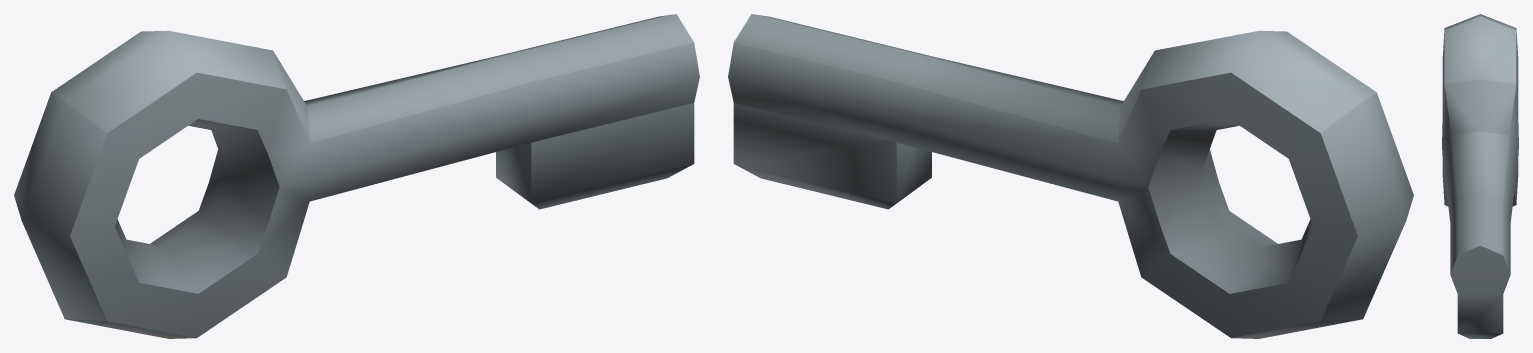
File: kay-chave.gltf
3 renders of one model, left to right at view 1: azimuth 30°, elevation 25°; view 2: azimuth 150°, elevation 25°; view 3: azimuth 270°, elevation 25°, orthographic. The views are drawn at different scales.
Visible parts, largest first — view 1: key; view 2: key; view 3: key.
Boxes of the visible parts, left/top/right/bottom form: key: left=14, top=14, right=699, bottom=338; key: left=728, top=14, right=1413, bottom=338; key: left=1442, top=14, right=1518, bottom=338.
Size of the model in its own units: 0.5822 by 0.2618 by 0.0922.
Materials: 1 (1 with a texture image).
